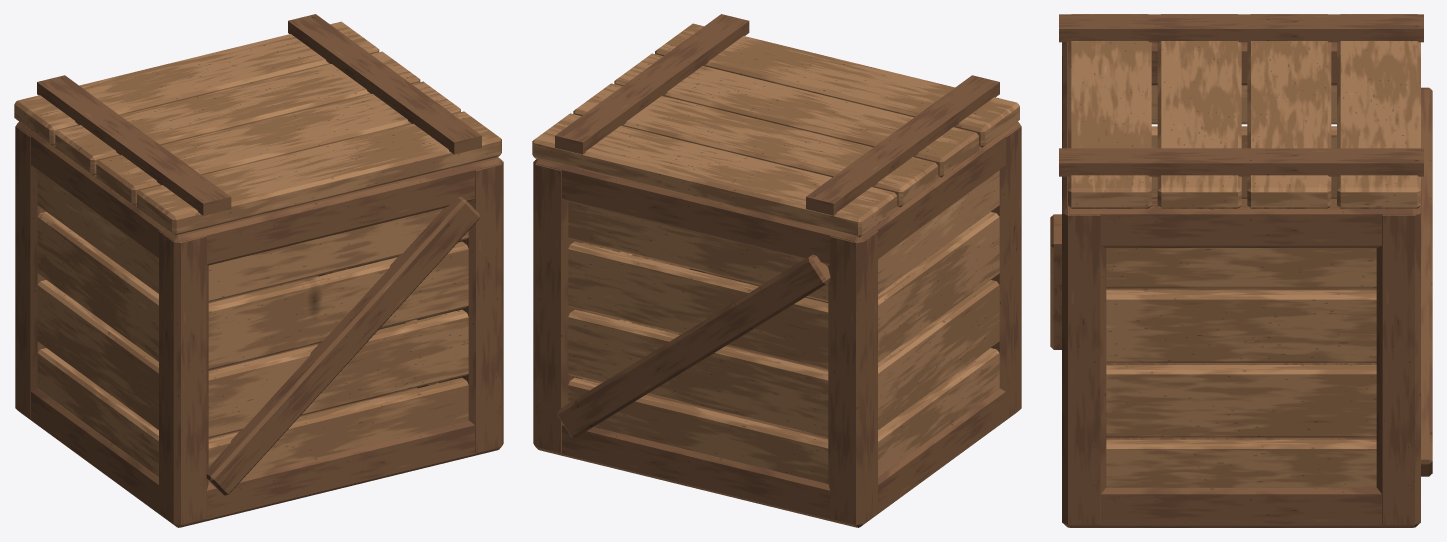
Rendered from wooden_crate.glb.
3 views of the same model, side by side, from view 1: azimuth 30°, elevation 25°; view 2: azimuth 150°, elevation 25°; view 3: azimuth 270°, elevation 25° (orthographic). The views are drawn at different scales.
Parts seen in each view (by area): view 1: wooden_crate_frame_braces, wooden_crate_planked_body, wooden_crate_lid; view 2: wooden_crate_planked_body, wooden_crate_frame_braces, wooden_crate_lid; view 3: wooden_crate_lid, wooden_crate_planked_body, wooden_crate_frame_braces.
Boxes of the visible parts, x1,y1,x2,y2 form: wooden_crate_frame_braces: (15, 121, 503, 527); wooden_crate_planked_body: (37, 170, 468, 483); wooden_crate_lid: (14, 14, 501, 235); wooden_crate_planked_body: (568, 170, 999, 483); wooden_crate_frame_braces: (533, 121, 1021, 527); wooden_crate_lid: (532, 14, 1019, 237); wooden_crate_lid: (1059, 14, 1423, 208); wooden_crate_planked_body: (1106, 85, 1376, 487); wooden_crate_frame_braces: (1050, 42, 1432, 527).
Size of what is drawn, in the model's own units: 0.71 by 0.6625 by 0.65.
2 materials, 2 textured.
